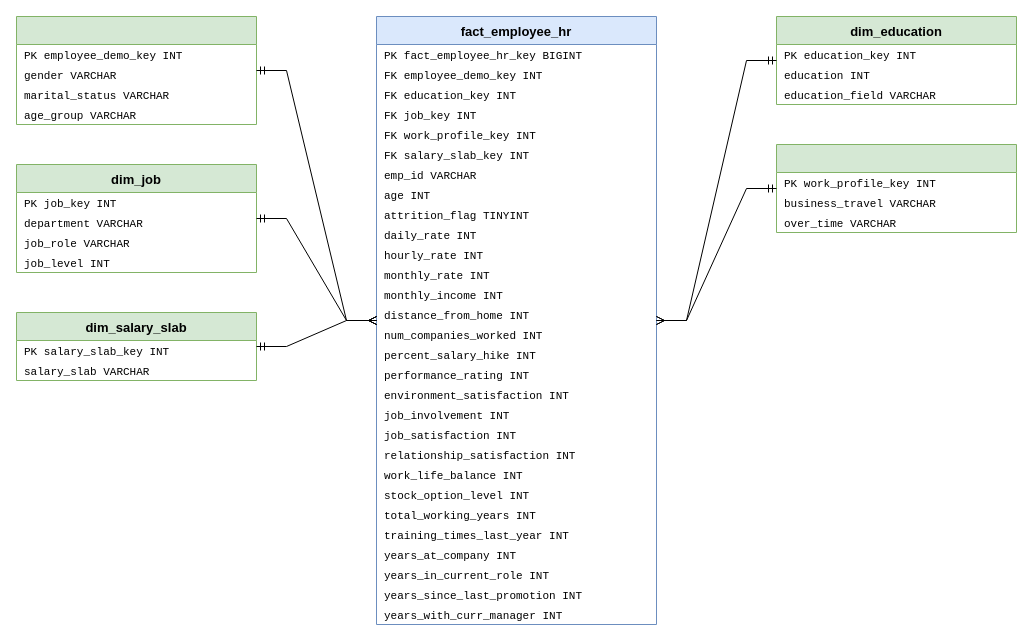
Image size: 1033x641. Some labels were removed from this diagram. Here are the shapes that lost their labels. From the top down, the box of each, then its label:
(16, 16, 256, 124): dim_employee_demo
(776, 144, 1016, 232): dim_work_profile
